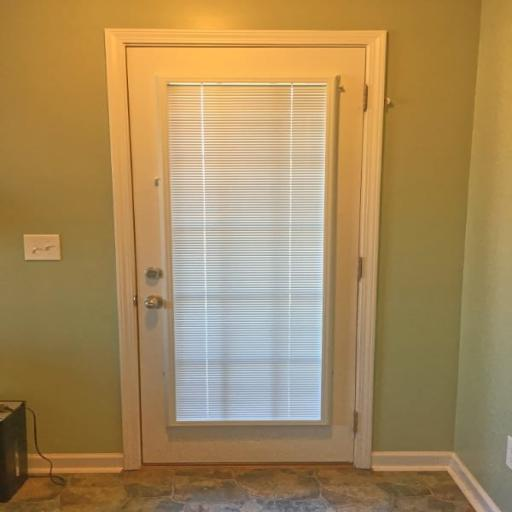Door: (104, 28, 389, 469)
